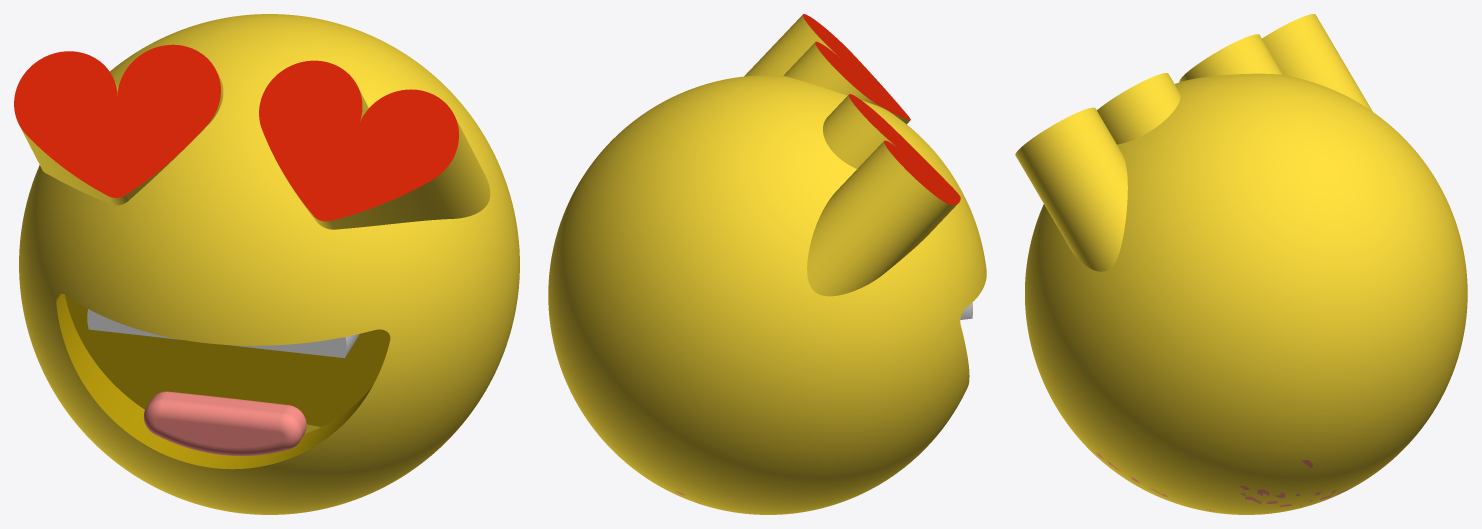
The model's file is EMO.glb.
The picture shows the model from 3 angles, left to right: view 1: azimuth 30°, elevation 25°; view 2: azimuth 150°, elevation 25°; view 3: azimuth 270°, elevation 25°; orthographic projection. The views are drawn at different scales.
Parts seen in each view (by area): view 1: Love Emoji, Love Emoji.004, Love Emoji.002, Love Emoji.001, Love Emoji.005, Love Emoji.003; view 2: Love Emoji, Love Emoji.002, Love Emoji.001; view 3: Love Emoji, Love Emoji.005.
Boxes of the visible parts, x1,y1,x2,y2 form: Love Emoji: (19,14,519,514); Love Emoji.004: (56,294,390,469); Love Emoji.002: (259,60,458,221); Love Emoji.001: (14,44,220,197); Love Emoji.005: (143,391,453,456); Love Emoji.003: (87,309,359,358); Love Emoji: (548,15,986,514); Love Emoji.002: (802,14,910,120); Love Emoji.001: (848,94,960,204); Love Emoji: (1015,14,1467,514); Love Emoji.005: (1096,452,1359,514).
Bounding box in the file's own units: 2.16 × 2.19 × 2.16.
